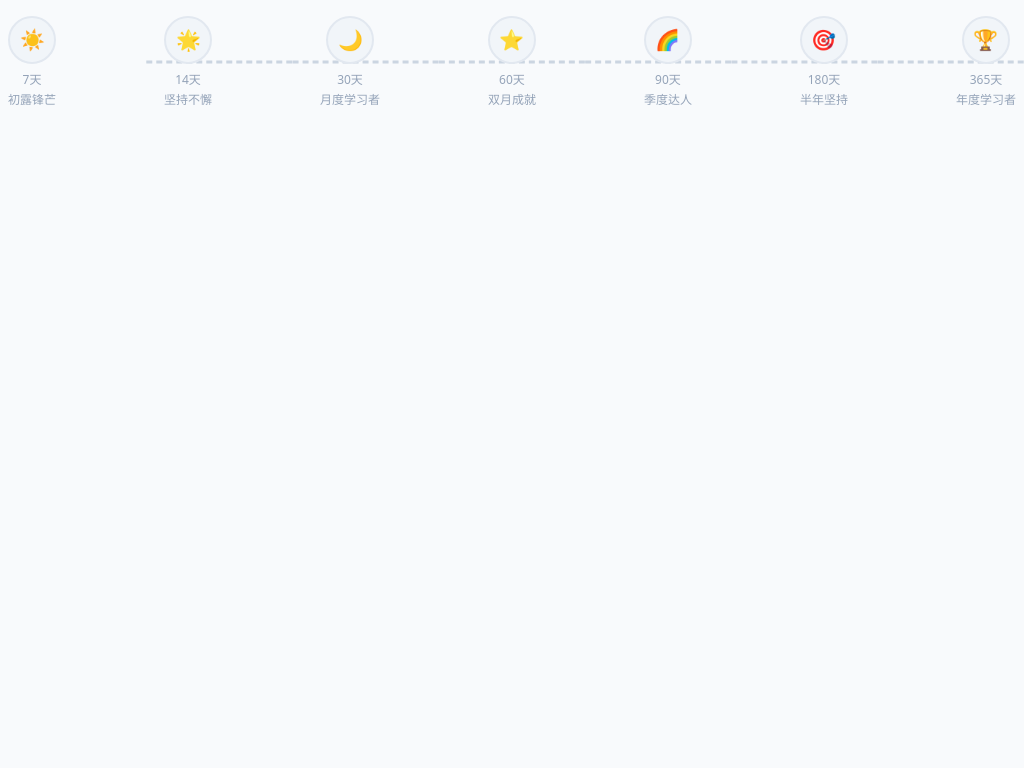
Test: MilestonePath › Detail Popup › closes popup on close button click
Click the button with test id "milestone-node-7-days" at [32, 40], box [8,16,56,64]
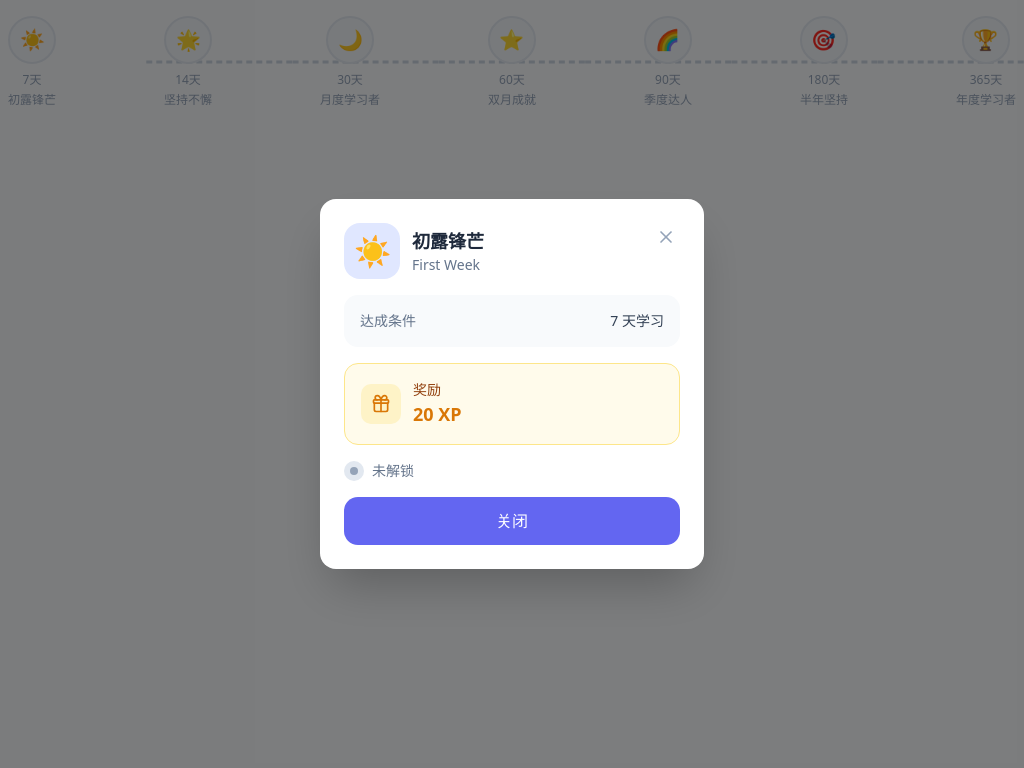
Check: the element with test id "milestone-popup" is shown, box [320,199,704,569]
Click the button with test id "milestone-popup-close" at [666, 237], box [652,223,680,251]
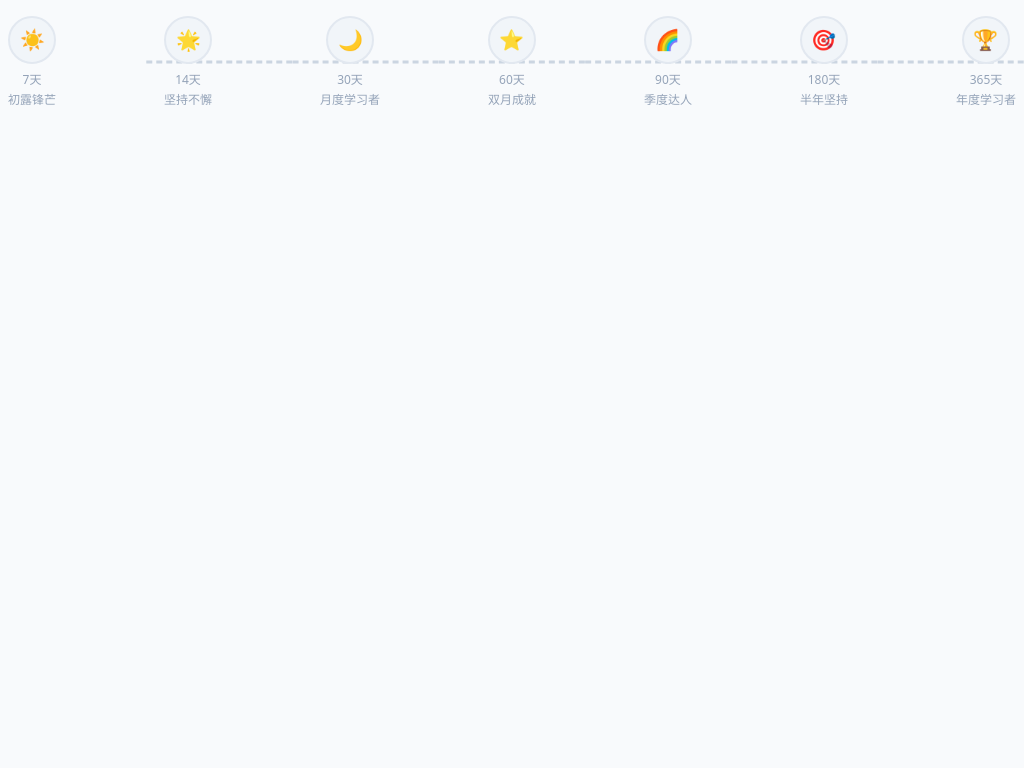
Check: the element with test id "milestone-popup" is gone
